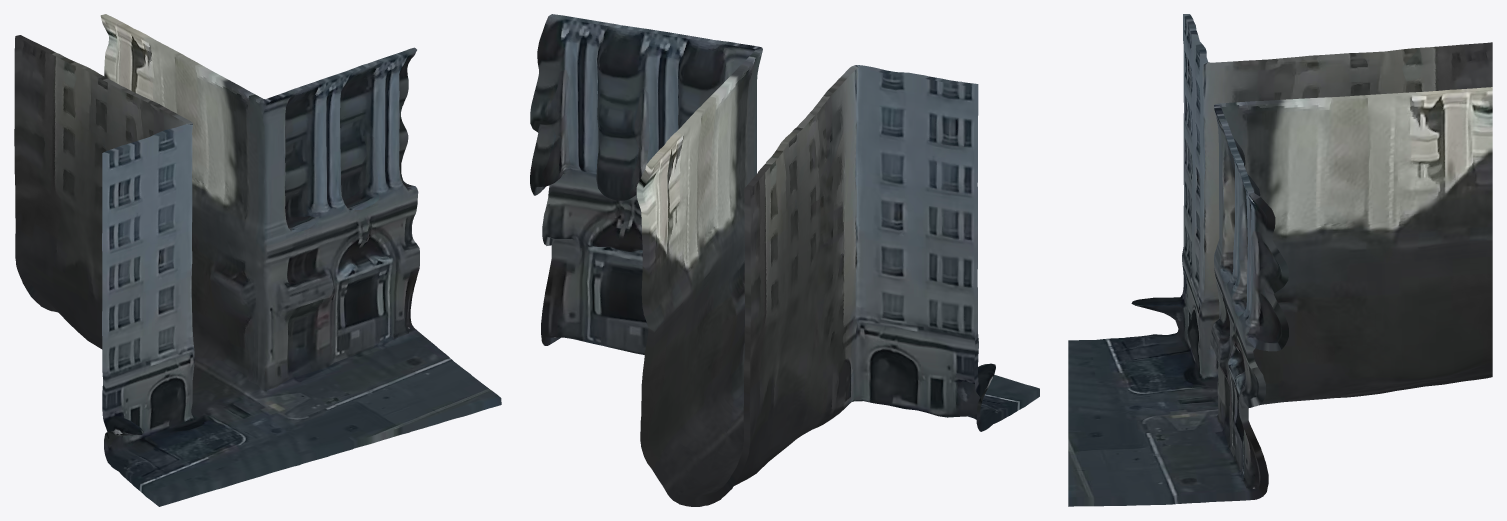
Rendered from z20-167755-405240-h0-yup-uvflip-v3-world.glb.
The picture shows the model from 3 angles, left to right: view 1: azimuth 30°, elevation 25°; view 2: azimuth 150°, elevation 25°; view 3: azimuth 270°, elevation 25°; orthographic projection. The views are drawn at different scales.
Size of the model in its own units: 30.2 by 26.32 by 30.32.
1 material, 1 textured.
